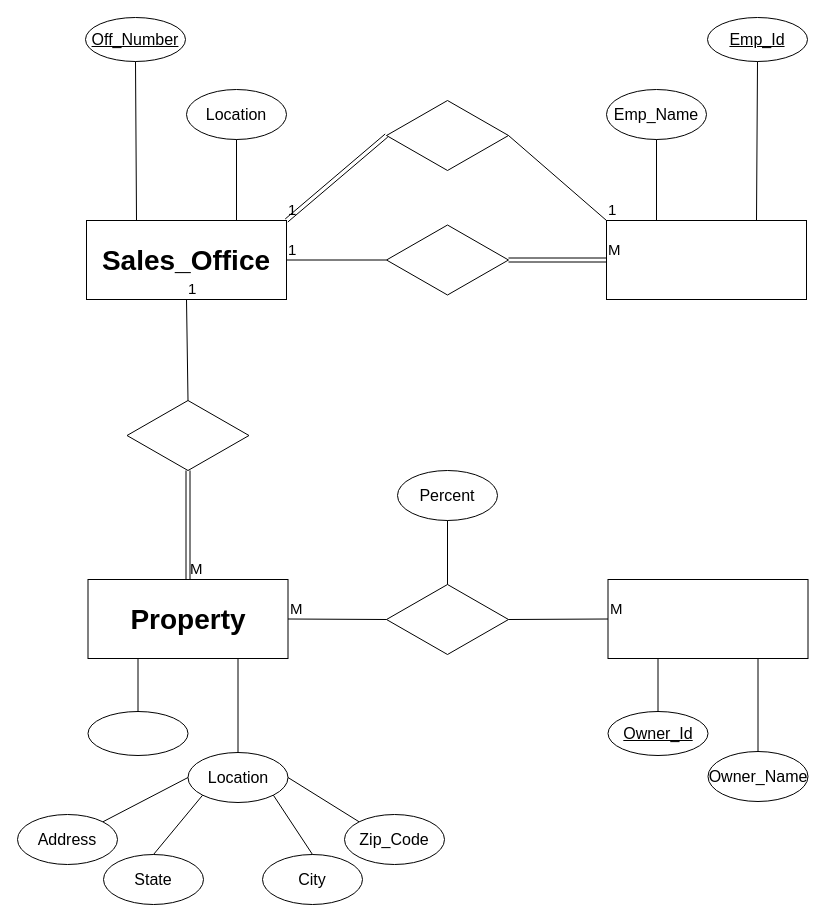
Some shapes in this 826 by 922 pixel diagram are drawn without their labels. The centre of each missing label's shape, as x and y in pixels:
Assigned: the point at 447,259
Employee: the point at 706,260
Lists: the point at 187,435
Manage: the point at 447,135
Owner: the point at 707,618
Owns: the point at 447,619
P_Id: the point at 137,733
